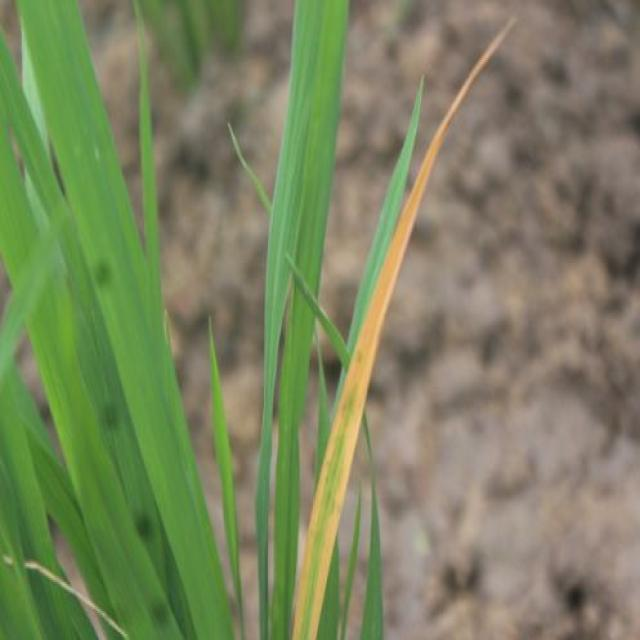Tungro: (300, 60, 513, 640)
